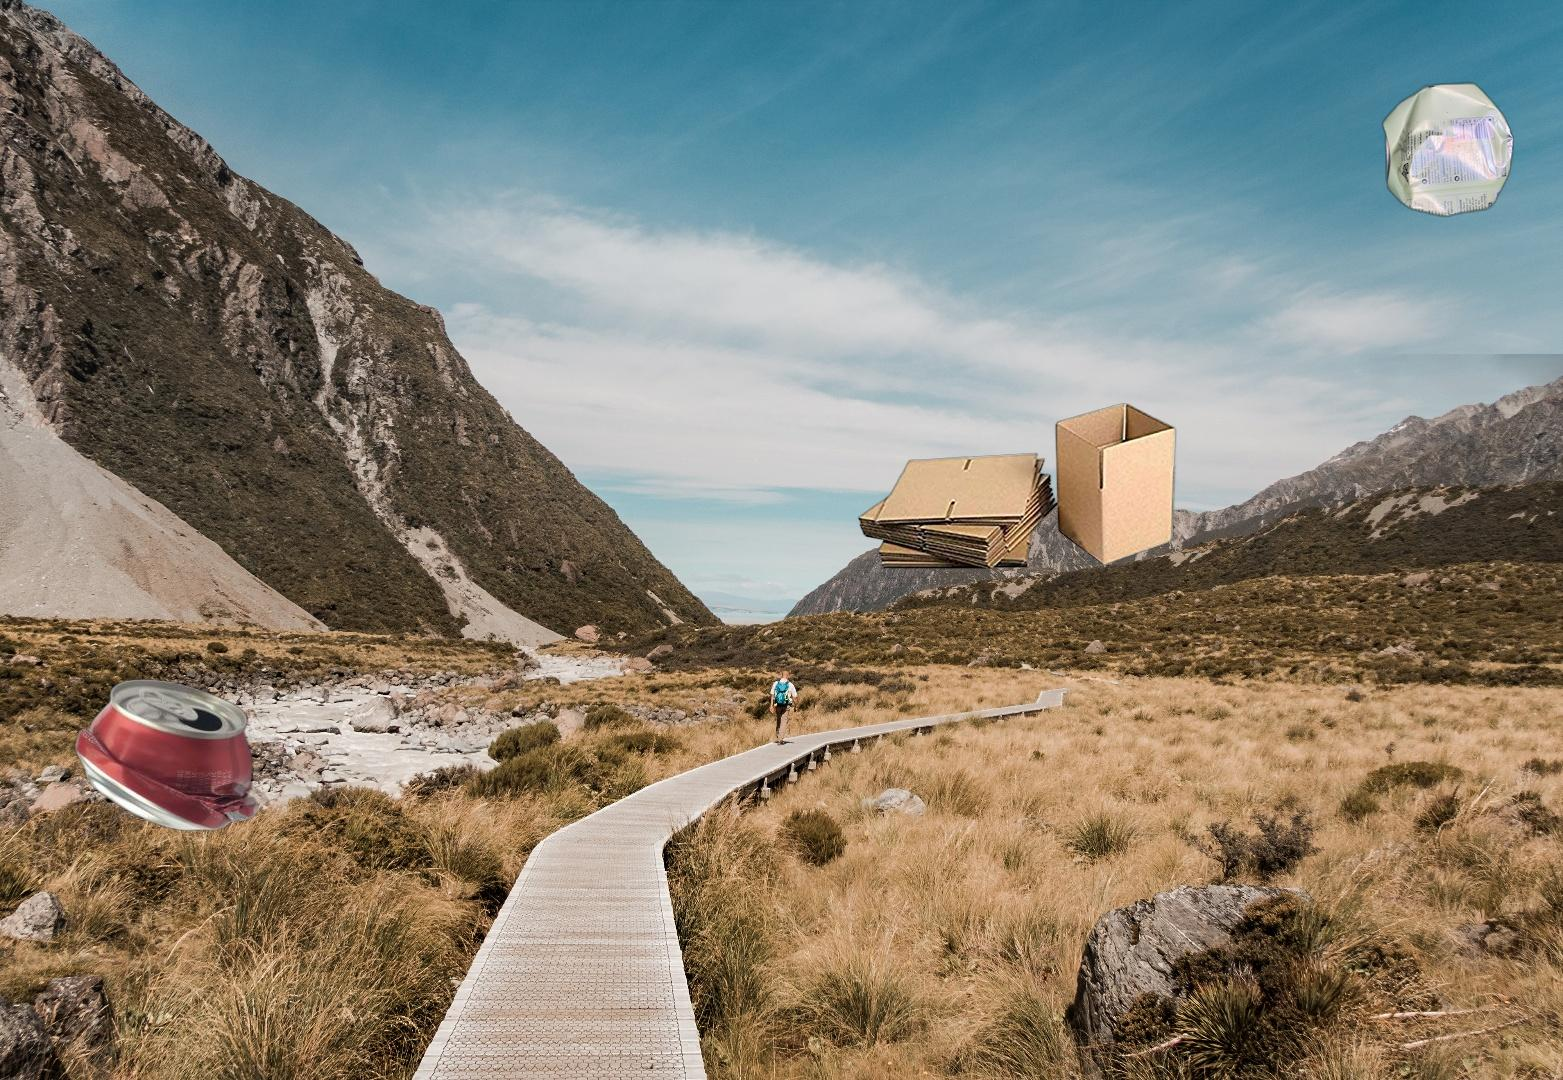metal-cans: (70, 676, 262, 832), (1379, 77, 1517, 221)
trashbox-cardboard: (1358, 354, 1563, 929), (858, 402, 1177, 570)
